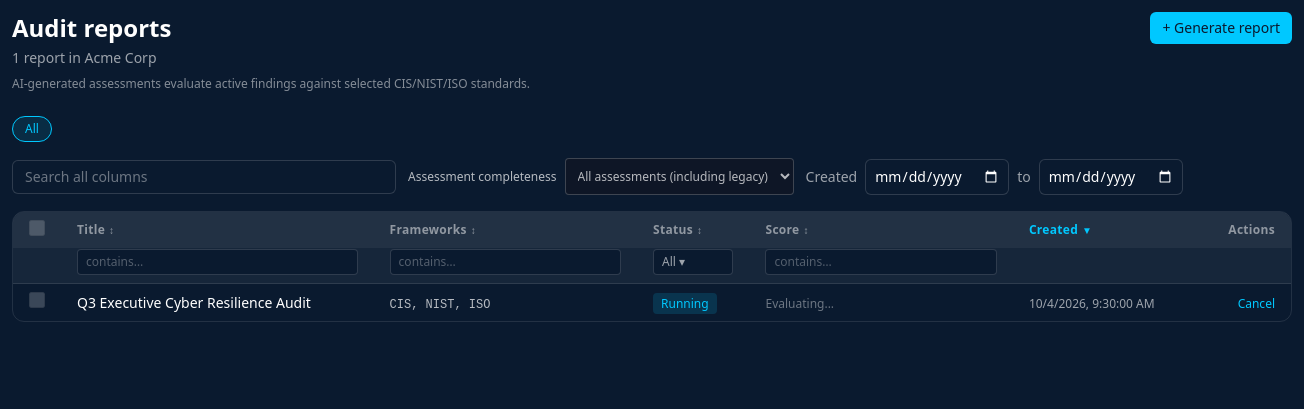
ReportsPage › offers cancellation instead of deletion while a report is running
Expected: the button "Delete" is not shown
Click the button "Cancel" at (1256, 304), box [1238,296,1275,312]
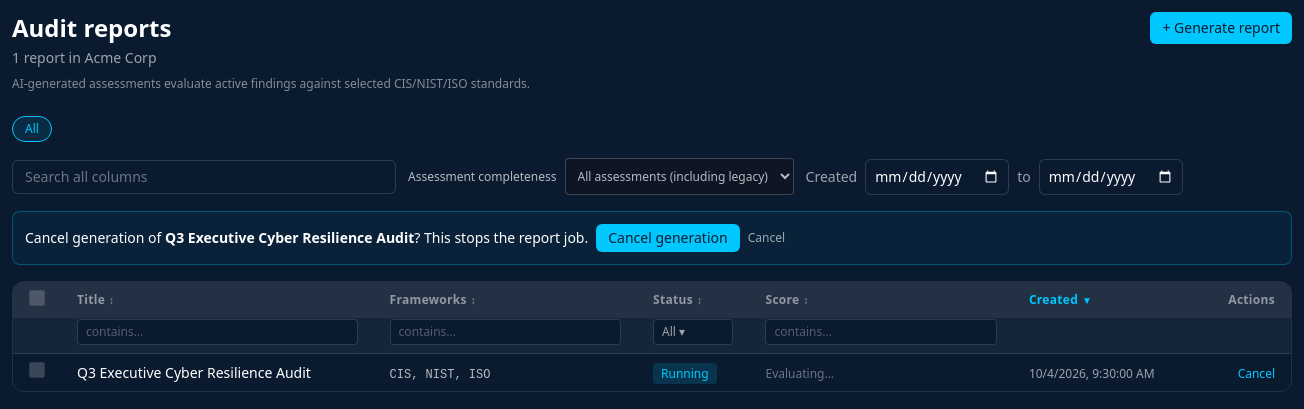
Click the button "Cancel generation" at (668, 238), box [596,224,740,252]
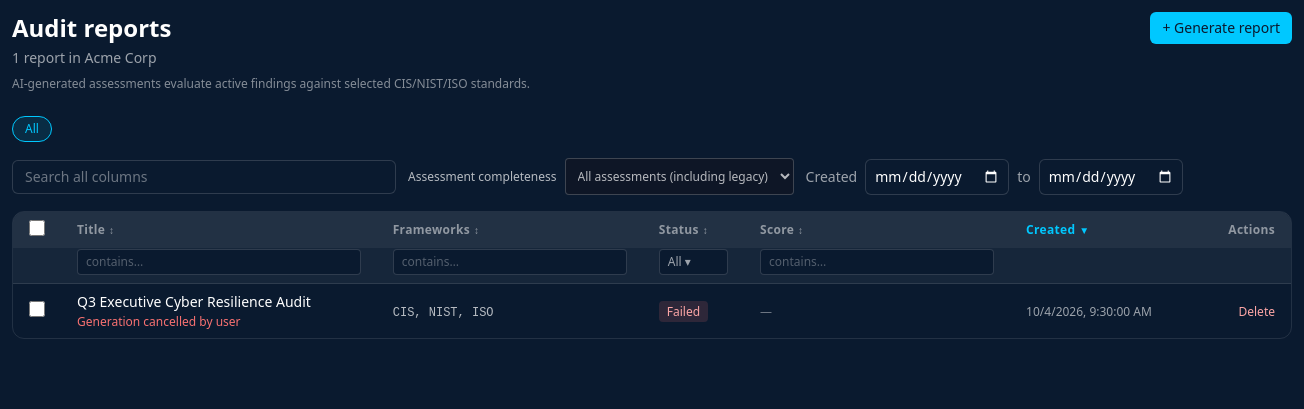
Expected: the text "Generation cancelled by user" is shown, [77,313,240,330]
Expected: the text "failed" is shown, [659,301,708,322]
